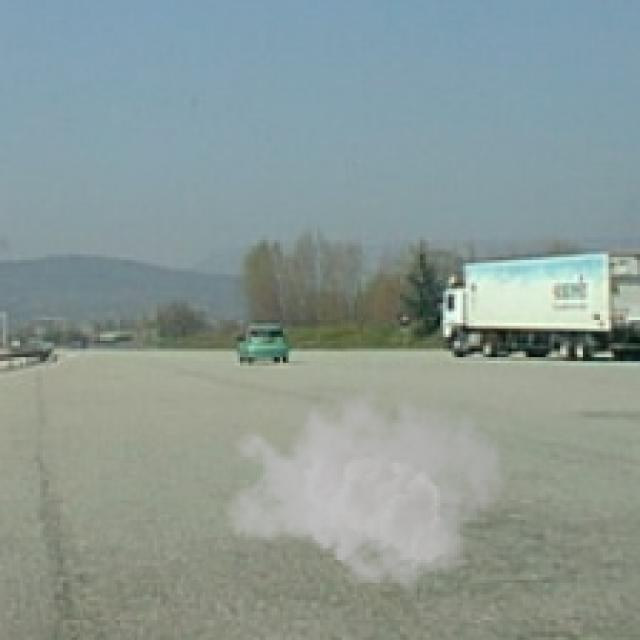smoke: (223, 372, 506, 594)
